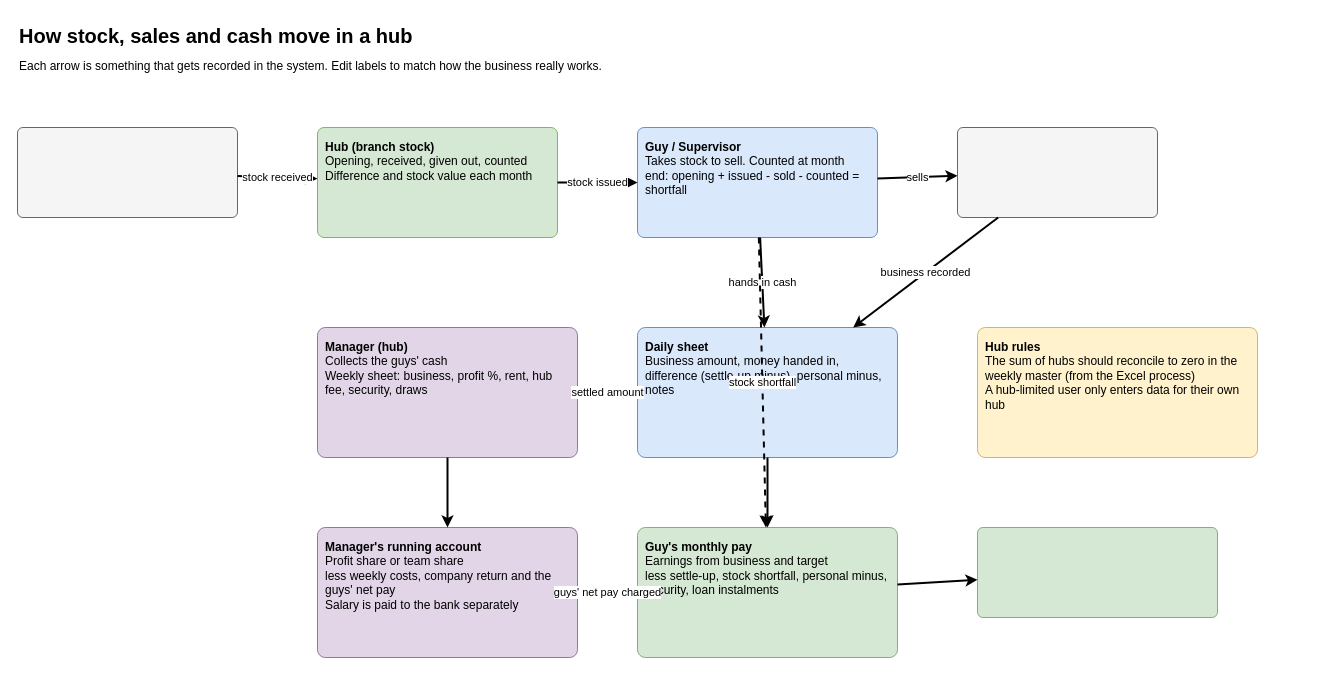
This 1335x675 diagram has some shape labels left out. The box of each missing label's shape, as (x1, y1, x2, y2) in pixels:
Bank Guys' net pay, managers' fixed salary: (976, 526, 1218, 618)
Company stock Products and unit prices: (16, 126, 238, 218)
Customers Sales (business): (956, 126, 1158, 218)
